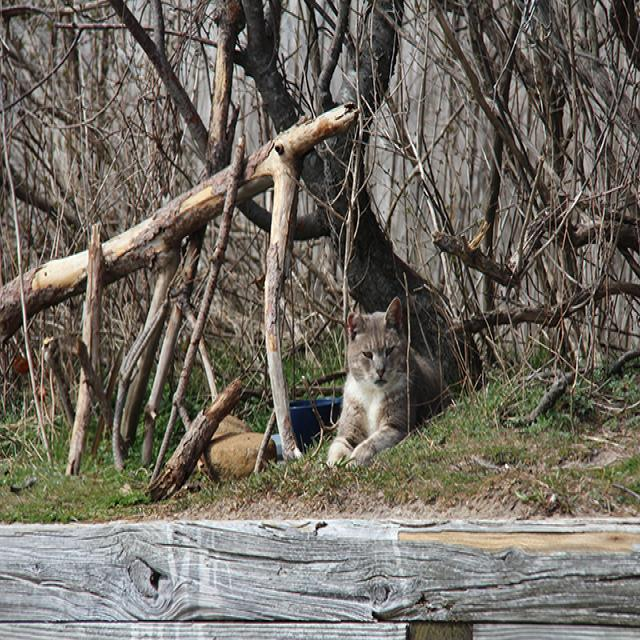cat: (328, 298, 452, 466)
